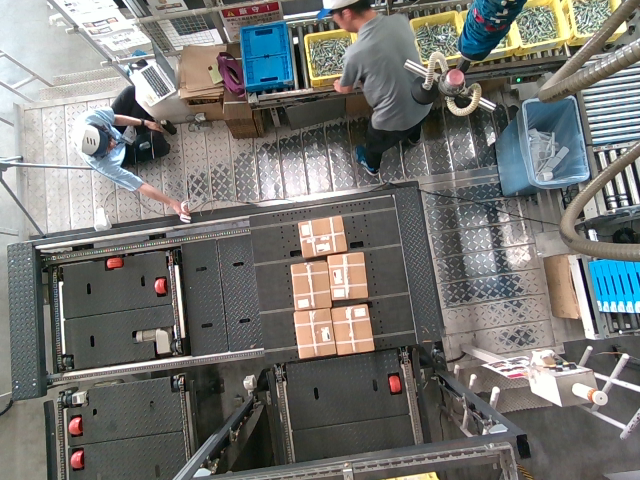box: (295, 216, 350, 255), (291, 309, 331, 357), (331, 305, 371, 353), (328, 253, 368, 301), (291, 263, 331, 311)
